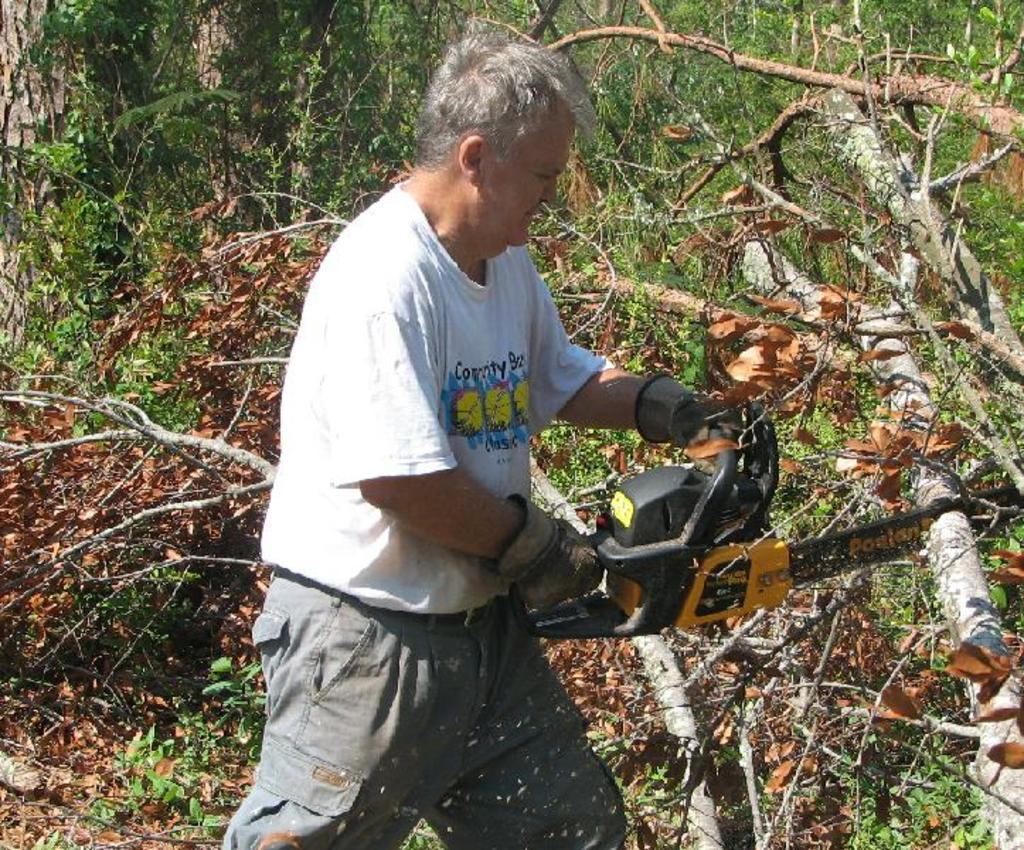face: (472, 114, 570, 246)
